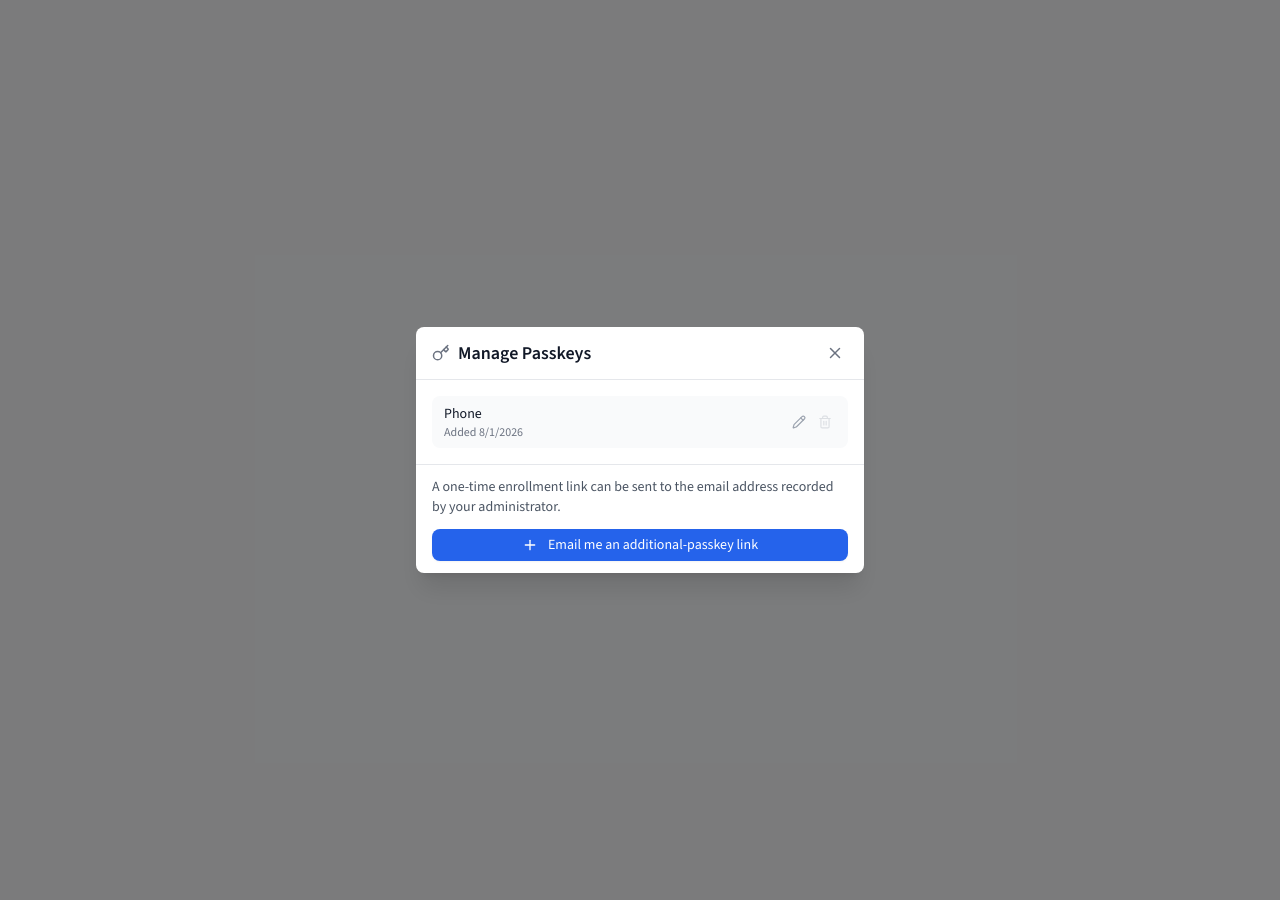
Test: PasskeyManager enrollment modes › sends a purpose-bound enrollment email without starting WebAuthn
Step 1. Click the button "Email me an additional-passkey link" → [640, 545], box [432,529,848,561]
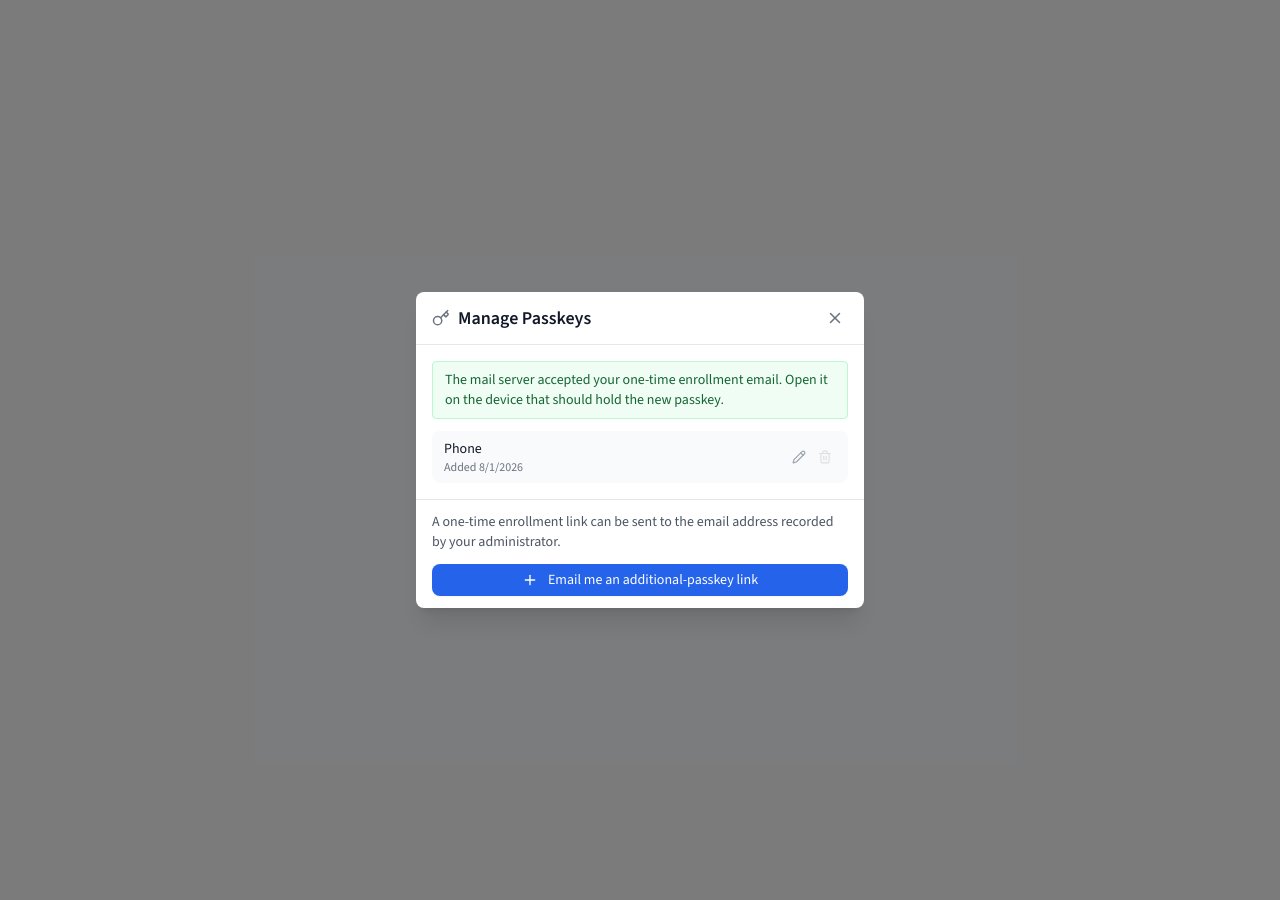
Expected: the text "mail server accepted your one-time enrollment email" is shown, [445,370,828,409]
